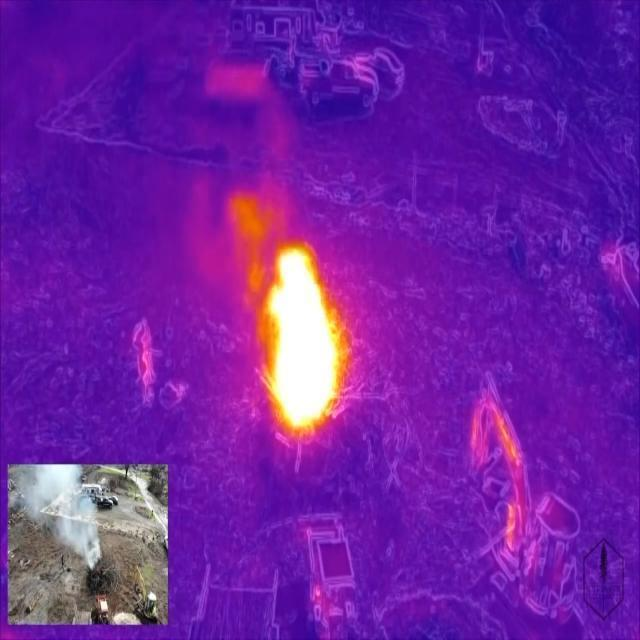fire: (265, 232, 345, 438)
